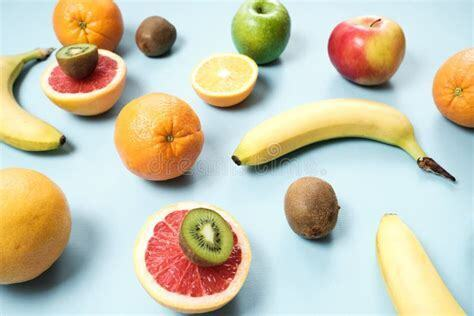apple: (328, 16, 405, 88)
banana: (233, 96, 429, 168), (1, 45, 63, 154)
orange: (1, 167, 73, 286), (113, 92, 206, 181), (46, 1, 126, 54), (431, 47, 474, 129)
